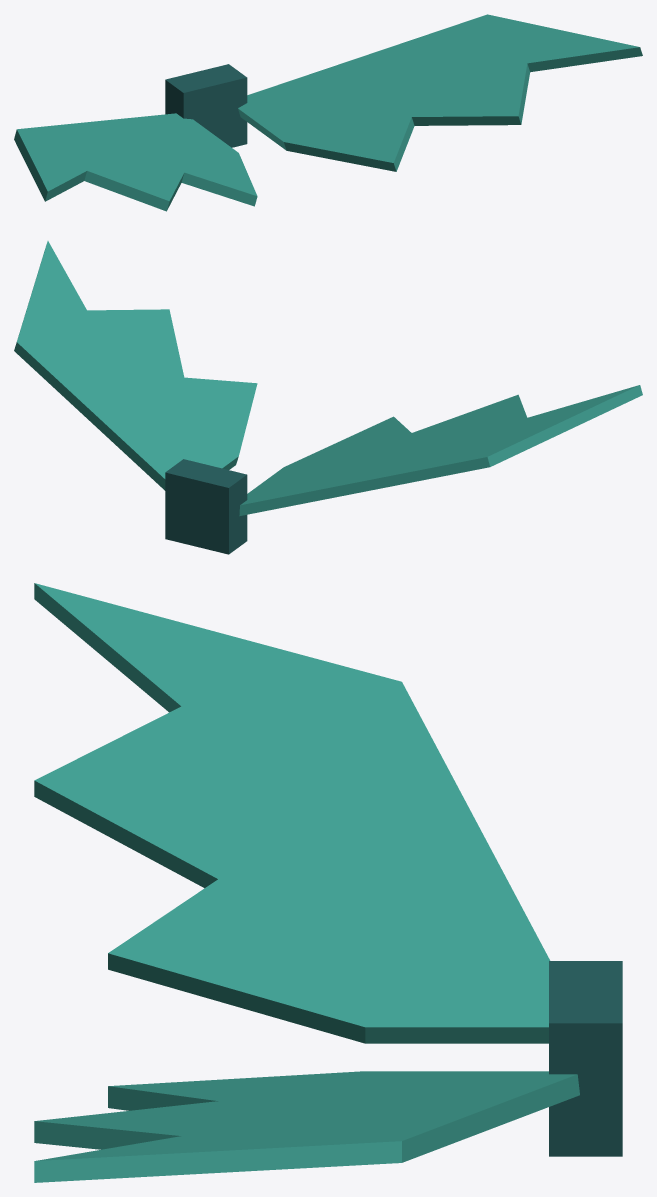
The model's file is fishron_wings.glb.
The picture shows the model from 3 angles, top to bottom: view 1: azimuth 30°, elevation 25°; view 2: azimuth 150°, elevation 25°; view 3: azimuth 270°, elevation 25°; orthographic projection. The views are drawn at different scales.
Visible parts, largest first — view 1: fishron_wings_v0; view 2: fishron_wings_v0; view 3: fishron_wings_v0.
Boxes of the visible parts, x1,y1,x2,y2 form: fishron_wings_v0: [14, 14, 642, 211]; fishron_wings_v0: [14, 241, 642, 554]; fishron_wings_v0: [34, 583, 622, 1182].
Bounding box in the file's own units: 0.7514 × 0.1521 × 0.32.
